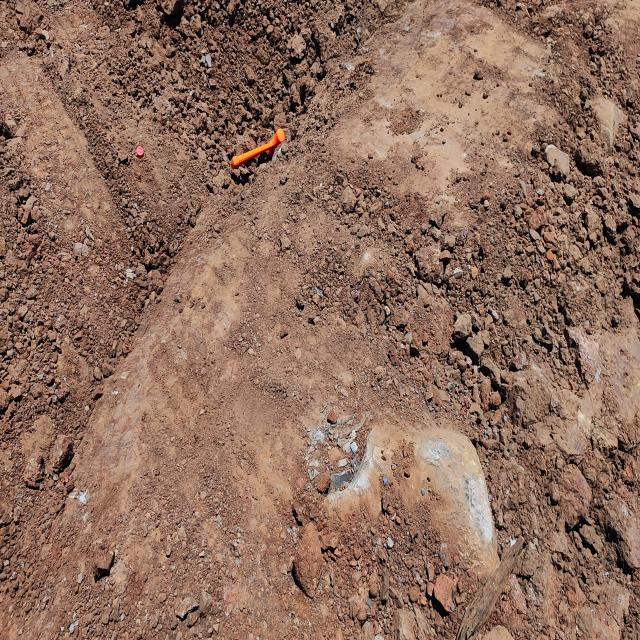Orange_hammer: (230, 127, 285, 169)
